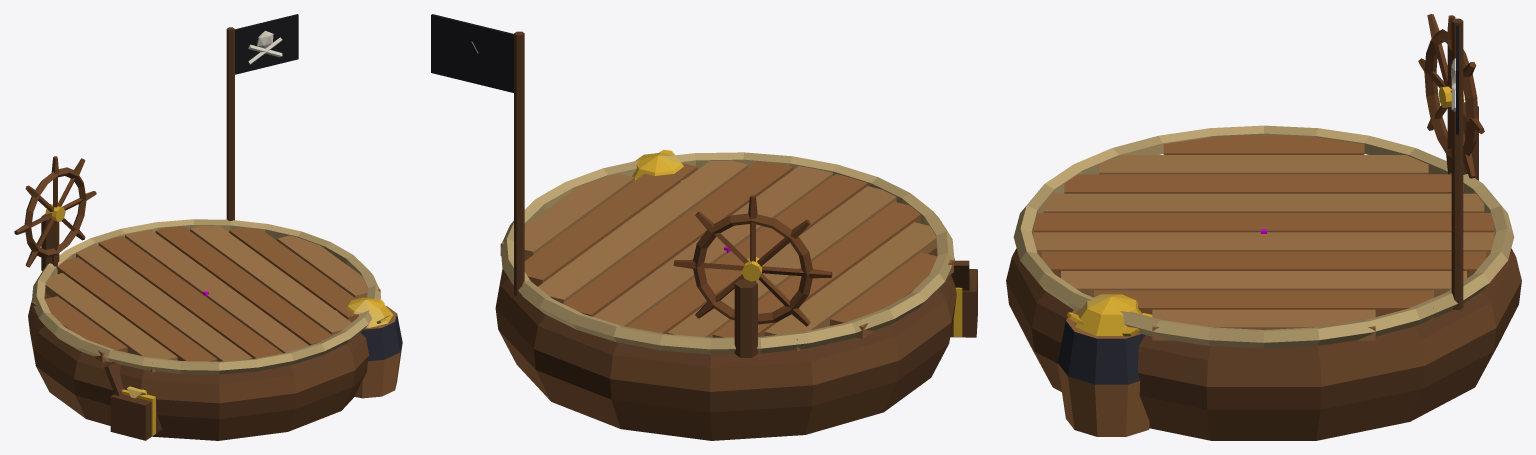
Rendered from Platform_PirateShiba.fbx.
3 renders of one model, left to right at view 1: azimuth 30°, elevation 25°; view 2: azimuth 150°, elevation 25°; view 3: azimuth 270°, elevation 25°, orthographic. The views are drawn at different scales.
Visible parts, largest first — view 1: Body.001; view 2: Body.001; view 3: Body.001.
Boxes of the visible parts, left/top/right/bottom form: Body.001: left=14, top=14, right=402, bottom=440; Body.001: left=431, top=14, right=977, bottom=440; Body.001: left=1006, top=14, right=1521, bottom=440.
Size of the model in its own units: 8.79 by 7.3 by 8.8.
